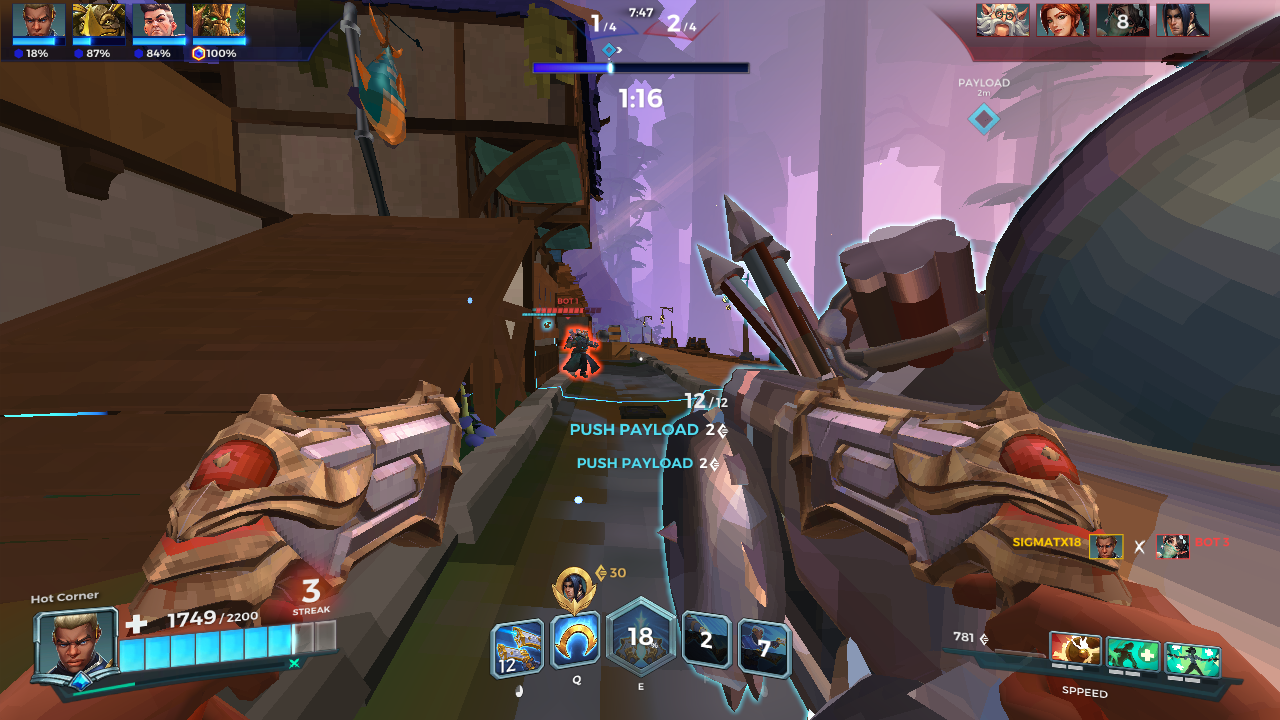model: (563, 322, 600, 384)
